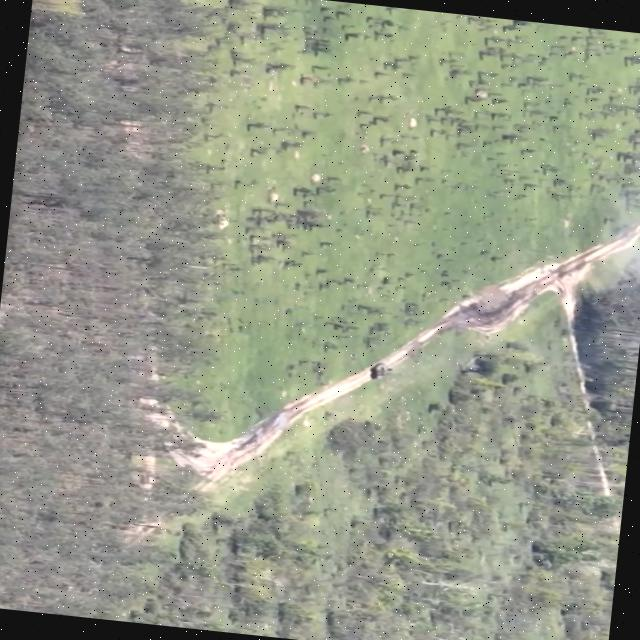MBT: (368, 361, 396, 382)
